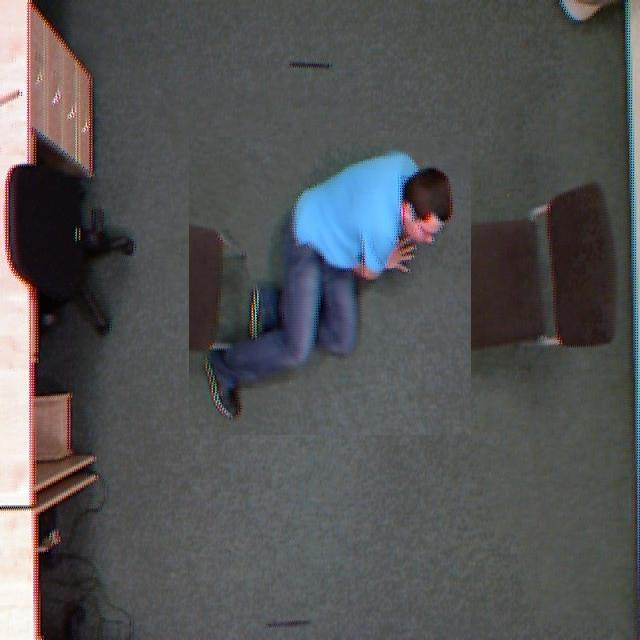Fall: (150, 103, 553, 446)
